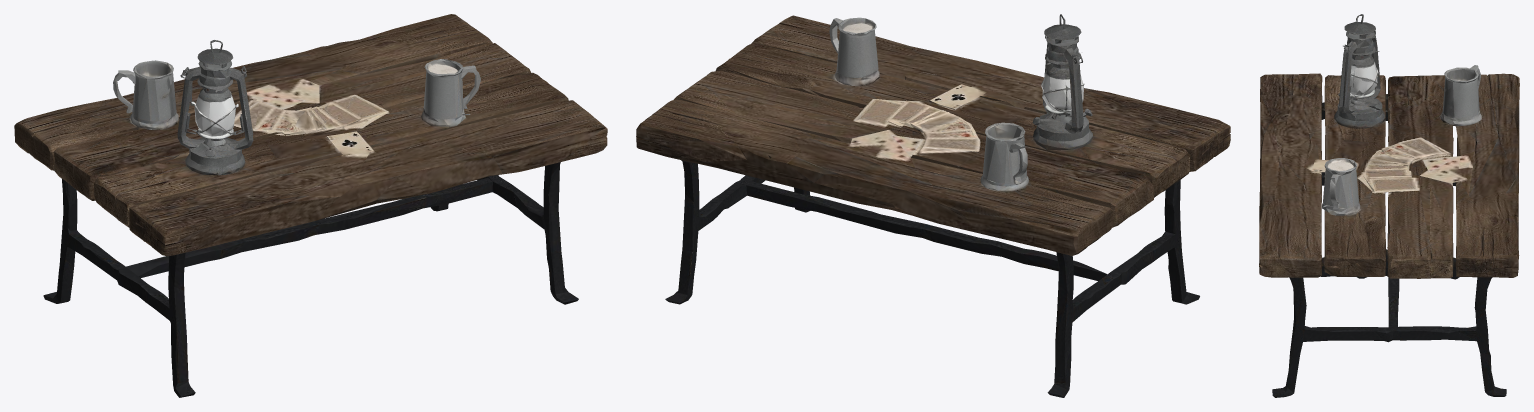
Rendered from sp_m_coffeetable.glb.
The picture shows the model from 3 angles, left to right: view 1: azimuth 30°, elevation 25°; view 2: azimuth 150°, elevation 25°; view 3: azimuth 270°, elevation 25°; orthographic projection. The views are drawn at different scales.
Visible parts, largest first — view 1: Mesh_0; view 2: Mesh_0; view 3: Mesh_0.
Part boxes in pixels (left/top/right/bottom): Mesh_0: left=14, top=14, right=607, bottom=397; Mesh_0: left=636, top=14, right=1230, bottom=397; Mesh_0: left=1259, top=14, right=1519, bottom=397.
Bounding box in the file's own units: 1.9 × 1.22 × 1.13.
Materials: 1 (1 with a texture image).
